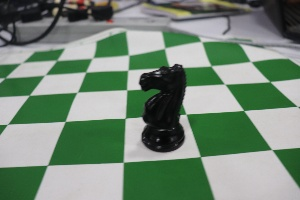black_horse: (130, 48, 191, 159)
